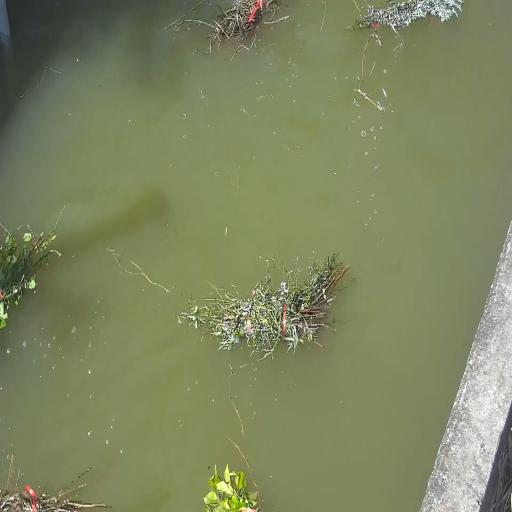twig: (188, 257, 374, 385), (0, 210, 53, 340), (0, 459, 105, 512), (352, 0, 475, 45), (199, 447, 284, 512), (192, 0, 295, 52)
